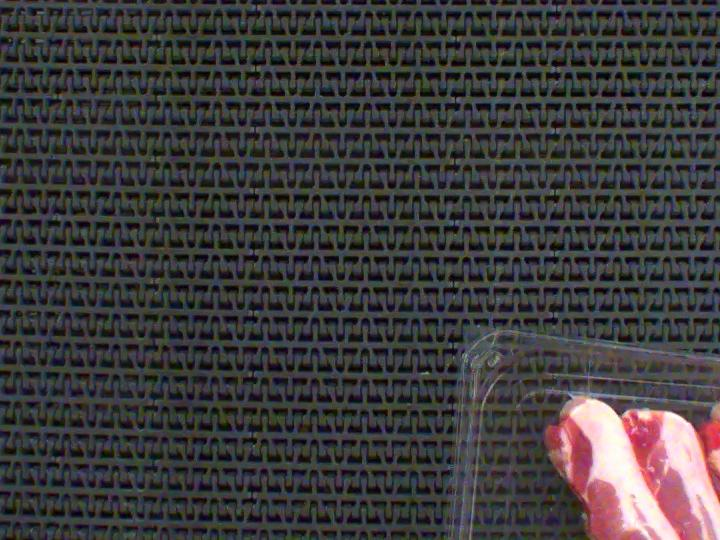packaging-error: (707, 368, 720, 398)
